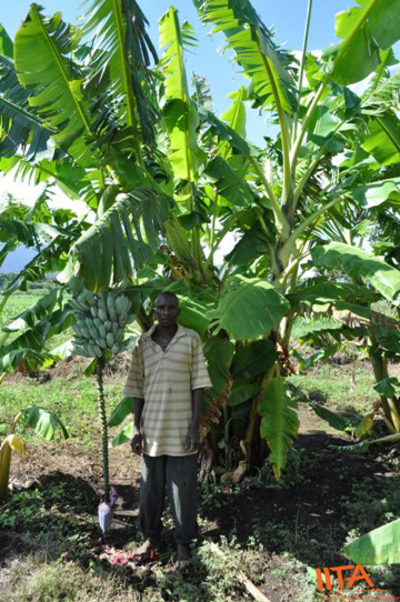bananaHand: (65, 284, 138, 364)
